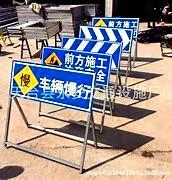sign: (11, 65, 93, 104), (41, 48, 109, 69), (90, 18, 138, 34)
